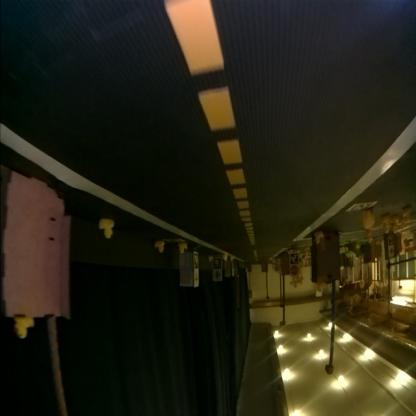Duckie: (16, 318, 34, 340), (100, 218, 114, 240), (362, 210, 374, 228), (392, 218, 400, 230), (316, 234, 324, 244), (180, 244, 188, 254), (156, 244, 165, 252), (320, 285, 326, 293), (223, 254, 228, 260)
QR code: (348, 204, 374, 212), (292, 256, 298, 264)
